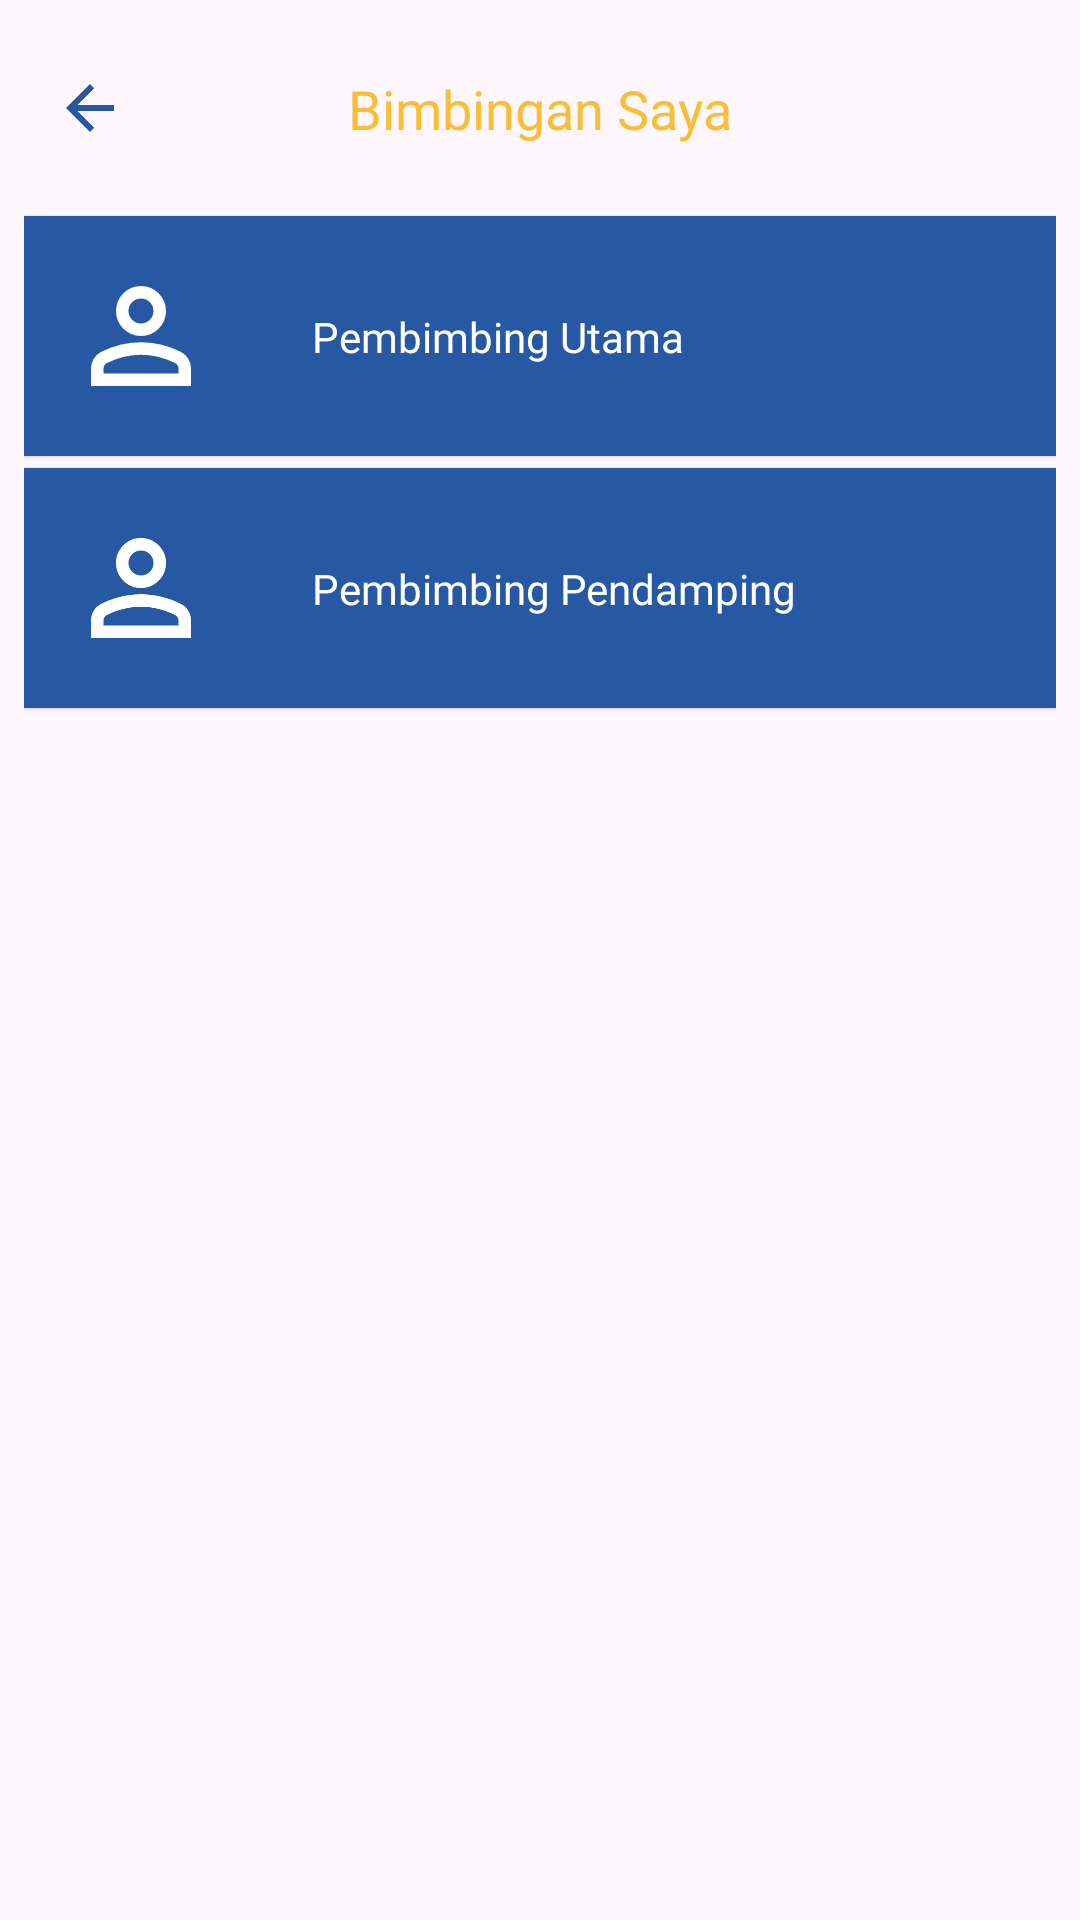

Where icons sit on this 1080x1920 app screen, as region(x1, y1, x2, y2):
arrow back: region(66, 84, 114, 132)
